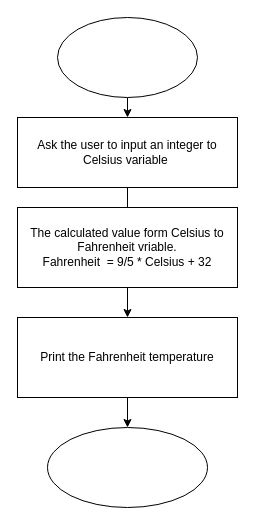
Some shapes in this 255 by 525 pixel diagram are drawn without their labels. The shapes that lost their labels are listed below. From the top down, each one's centre as x and y in pixels, then its label:
At (127,57): "Start".
At (127,467): "End".
